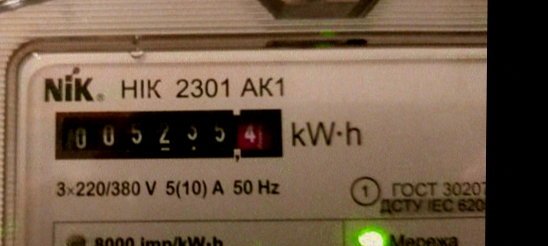0: (73, 124, 88, 149), (101, 123, 116, 147)
2: (156, 119, 172, 145)
3: (183, 116, 201, 142)
4: (241, 117, 259, 146)
5: (211, 116, 228, 144), (129, 120, 143, 145)
screen: (42, 96, 293, 170)
